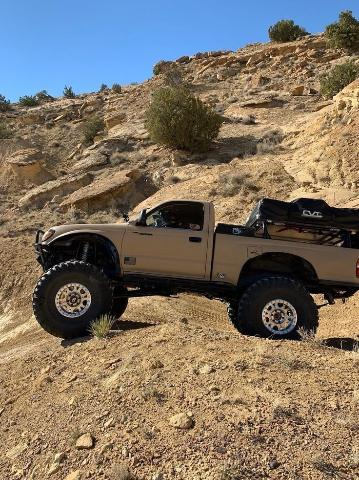pickup-truck: (31, 197, 359, 341)
